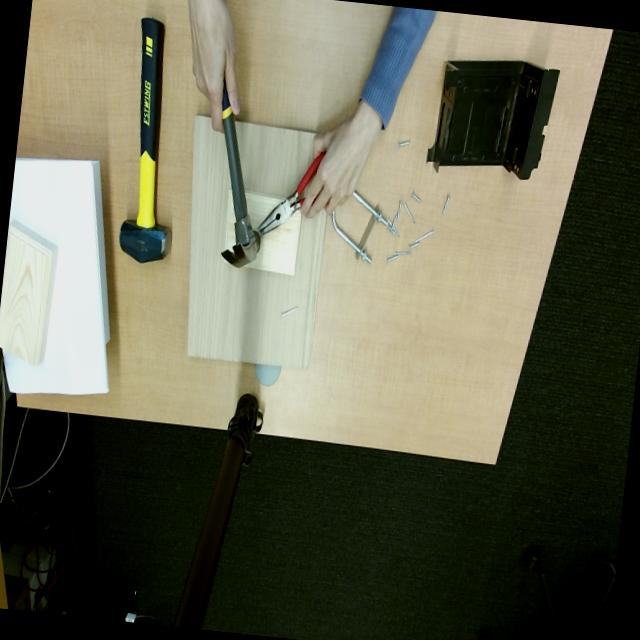hammer: (119, 18, 170, 262), (221, 87, 260, 267)
pliers: (257, 150, 325, 236)
